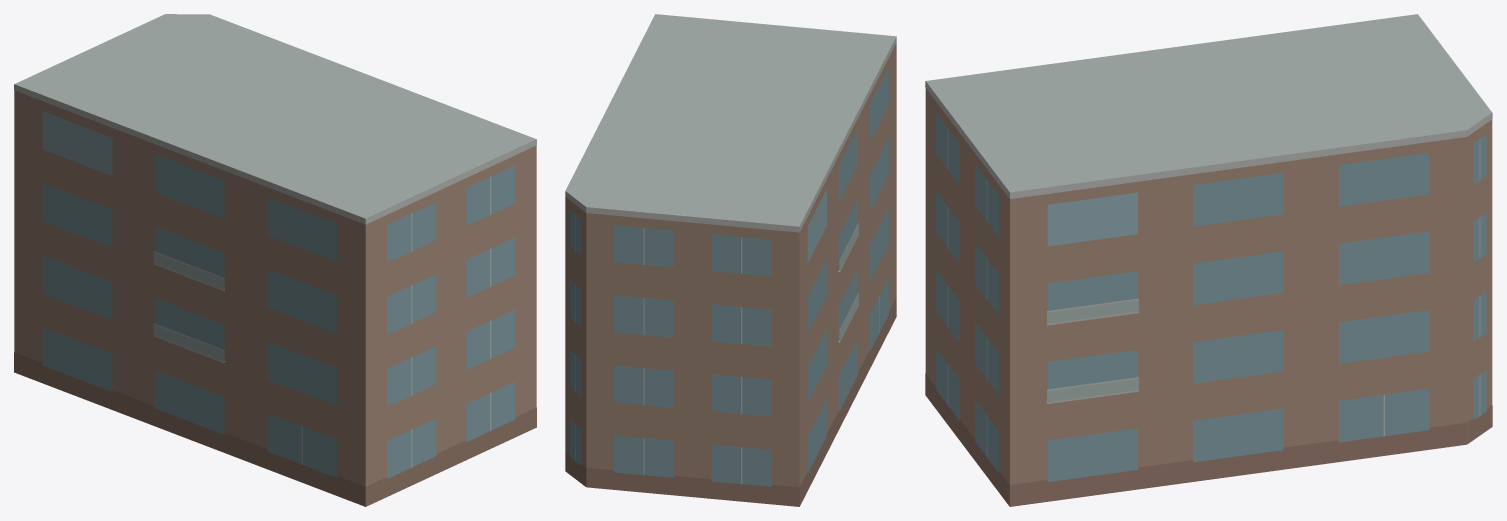
The model's file is survey-upis-32619235.glb.
3 renders of one model, left to right at view 1: azimuth 30°, elevation 25°; view 2: azimuth 150°, elevation 25°; view 3: azimuth 270°, elevation 25°, orthographic. The views are drawn at different scales.
Parts seen in each view (by area): view 1: survey-upis-32619235.tmp; view 2: survey-upis-32619235.tmp; view 3: survey-upis-32619235.tmp.
Boxes of the visible parts, box(x1,y1,x2,y2) form: survey-upis-32619235.tmp: box(14, 14, 536, 506); survey-upis-32619235.tmp: box(565, 14, 896, 506); survey-upis-32619235.tmp: box(925, 14, 1492, 506).
Size of the model in its own units: 14.14 by 11.6 by 18.97.
